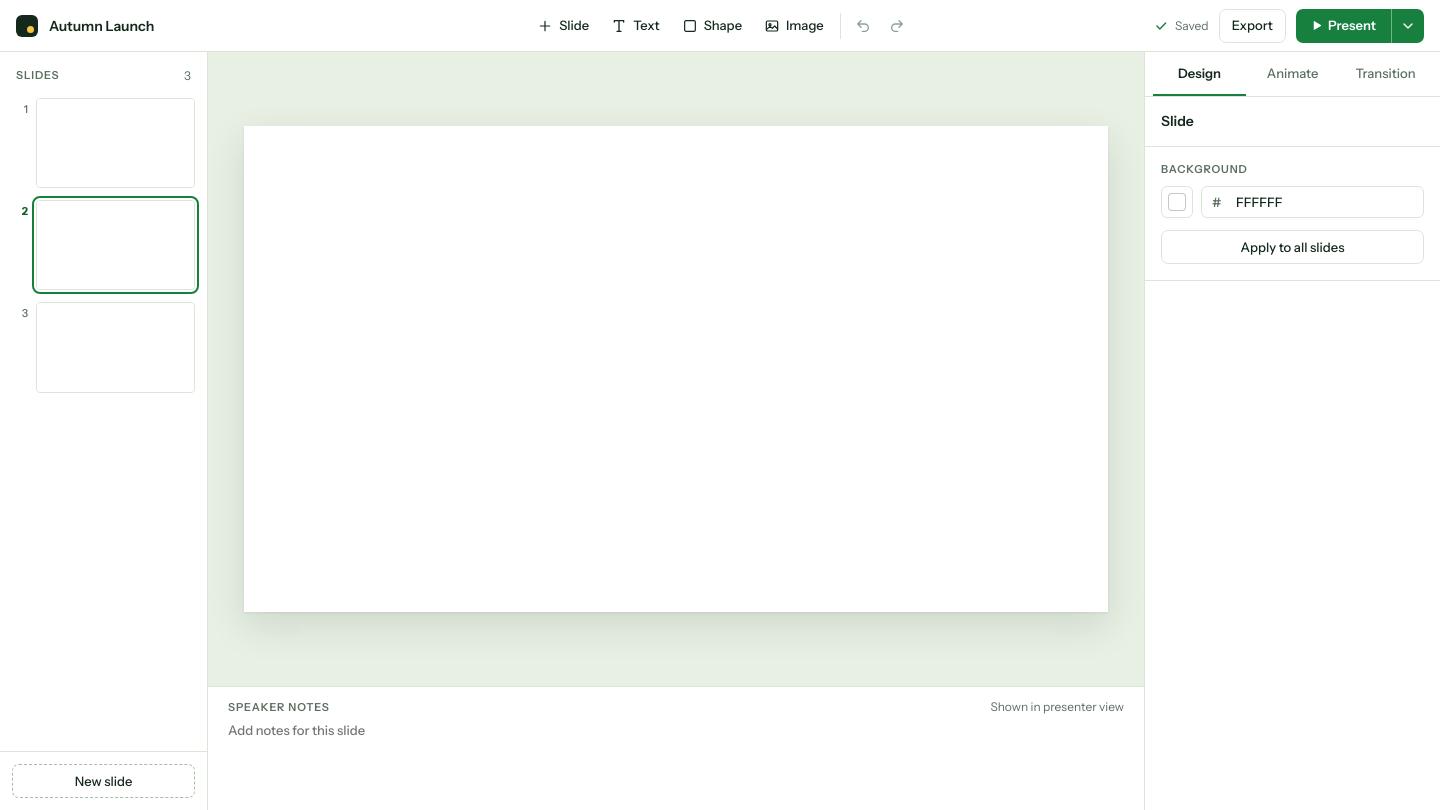
Test case: Given a browser that blocks the window, When Present is pressed, Then the card explains and offers both ways on
Expected: the option named "Slide 1" is shown, [12,98,195,188]
Click the button "Present" at (1343, 26), box [1296,8,1391,42]
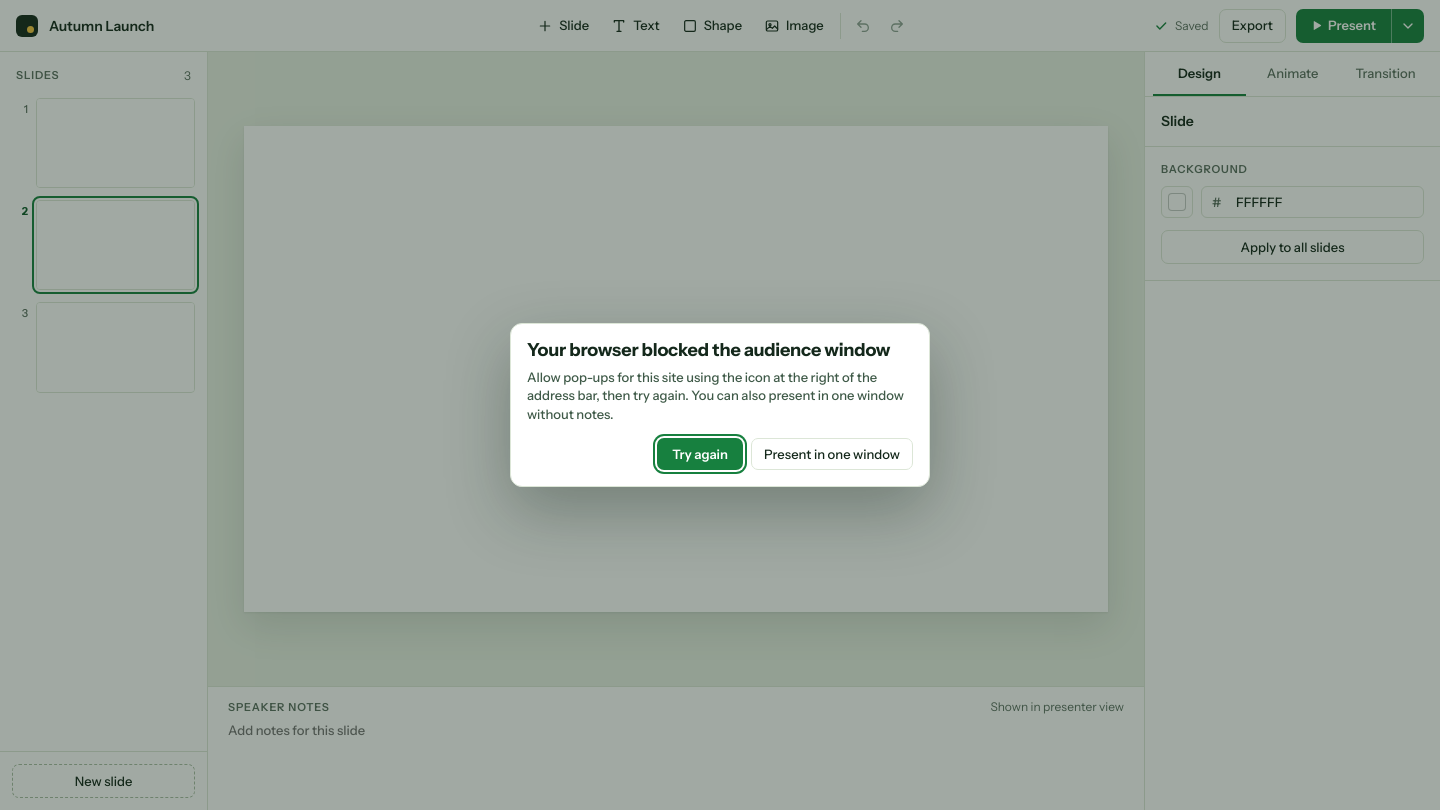
Expected: the dialog "Your browser blocked the audience window" is shown, [510,323,930,487]
Expected: the text "Allow pop-ups for this site" is shown, [527,368,904,422]
Expected: the button "Try again" is shown, [657,438,743,470]
